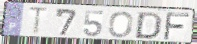5: (83, 10, 105, 38)
7: (55, 8, 78, 37)
D: (133, 11, 164, 40)
F: (162, 11, 191, 42)
O: (107, 11, 135, 39)
T: (27, 6, 50, 37)
